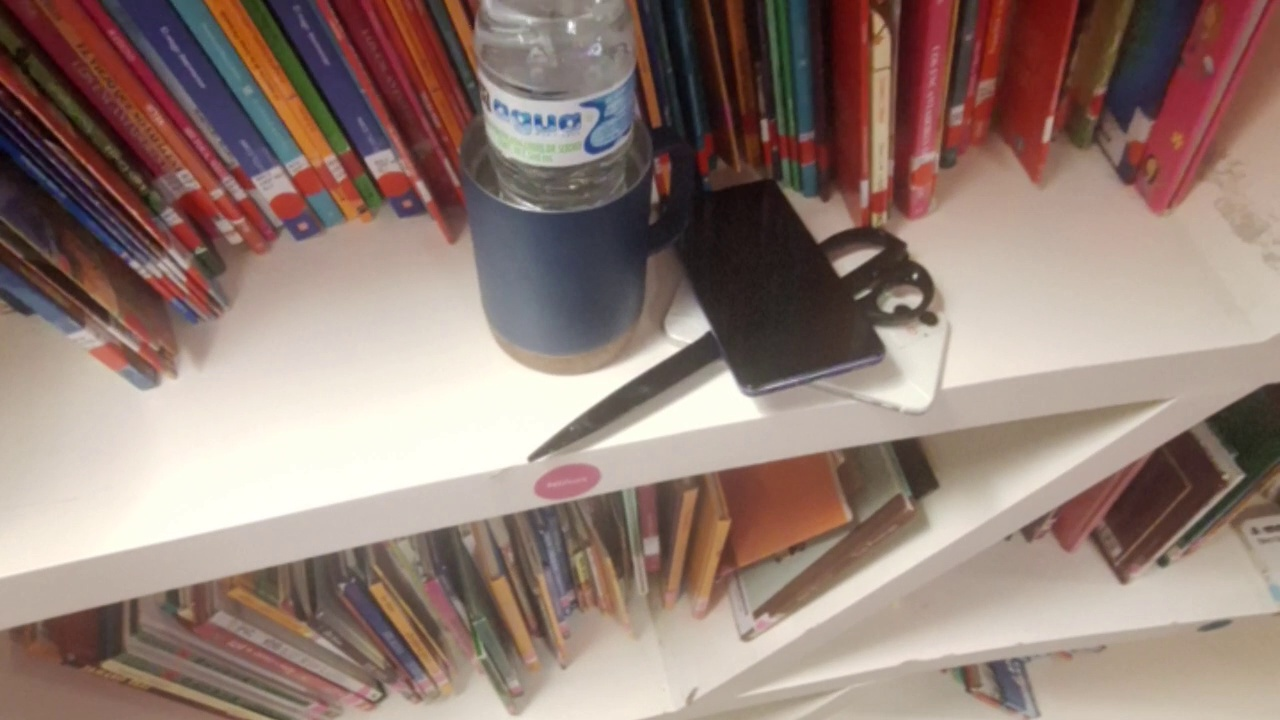botella: (455, 1, 655, 374)
